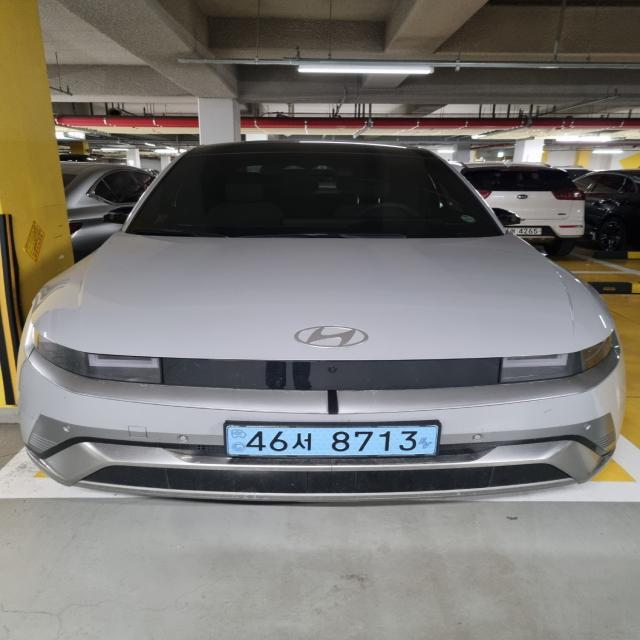car: (206, 415, 450, 474)
carev: (414, 416, 438, 468), (224, 420, 248, 467)
